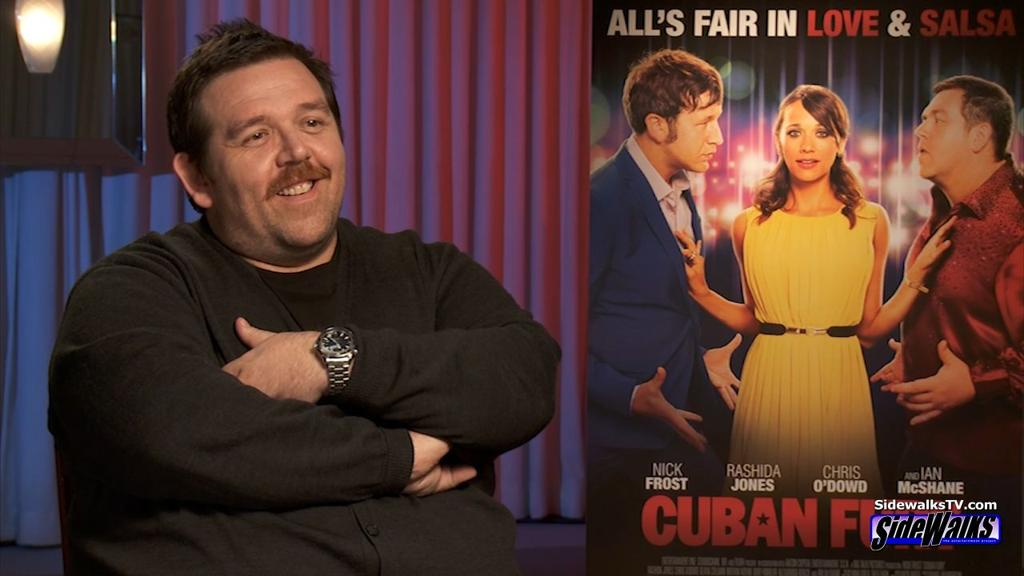face: (196, 58, 344, 258), (668, 78, 724, 172), (912, 96, 966, 176), (784, 104, 836, 184)
